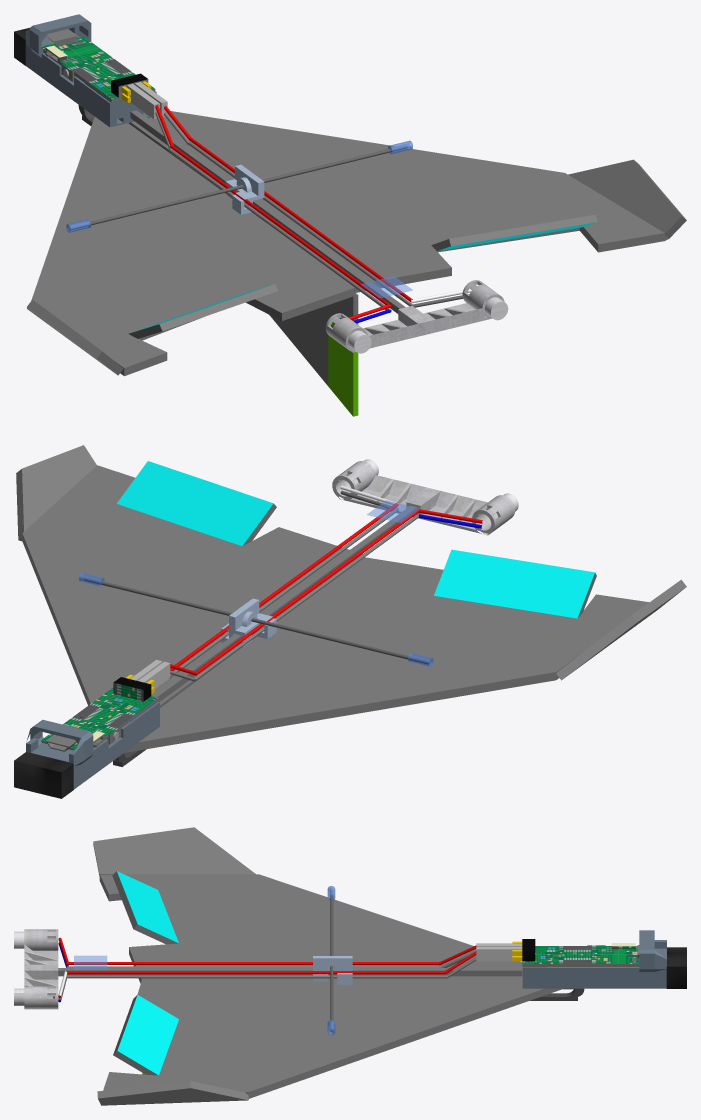
File: invader.glb
3 views of the same model, one above another, from view 1: azimuth 30°, elevation 25°; view 2: azimuth 150°, elevation 25°; view 3: azimuth 270°, elevation 25° (orthographic). The views are drawn at different scales.
Visible parts, largest first — view 1: root, 720B_new_37_615_0.98a+1_Wing fence_bigger circle--current, base10-2a--current - thinker_N9a, object 6, object 2, 元件#1, bar_hook_current; view 2: root, 720B_new_37_615_0.98a+1_Wing fence_bigger circle--current, base10-2a--current - thinker_N9a, object 6, object 2, 元件#1, bar_hook_current; view 3: root, base10-2a--current - thinker_N9a, 720B_new_37_615_0.98a+1_Wing fence_bigger circle--current, object 2, object 6, bar_hook_current, 元件#1.
Boxes of the visible parts, x1,y1,x2,y2 form: root: (14, 27, 686, 416); 720B_new_37_615_0.98a+1_Wing fence_bigger circle--current: (325, 280, 508, 353); base10-2a--current - thinker_N9a: (25, 14, 156, 127); object 6: (169, 145, 391, 312); object 2: (188, 137, 412, 306); 元件#1: (70, 145, 407, 229); bar_hook_current: (225, 164, 264, 214); root: (14, 445, 686, 798); 720B_new_37_615_0.98a+1_Wing fence_bigger circle--current: (332, 459, 518, 535); base10-2a--current - thinker_N9a: (26, 700, 159, 789); object 6: (194, 508, 419, 681); object 2: (170, 503, 398, 676); 元件#1: (84, 577, 429, 664); bar_hook_current: (221, 598, 276, 647); root: (53, 827, 686, 1105); base10-2a--current - thinker_N9a: (522, 930, 666, 988); 720B_new_37_615_0.98a+1_Wing fence_bigger circle--current: (14, 929, 58, 1009); object 2: (66, 971, 447, 978); object 6: (66, 962, 441, 967); bar_hook_current: (313, 956, 352, 985); 元件#1: (330, 890, 333, 1032).
Bounding box in the file's own units: 0.2355 × 0.0653 × 0.2634.
Materials: 24 (5 with a texture image).
